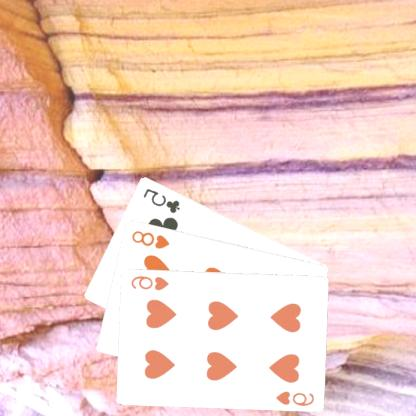5C: (142, 184, 183, 214)
6H: (274, 388, 316, 407), (130, 273, 172, 291)
8H: (130, 227, 173, 250)
